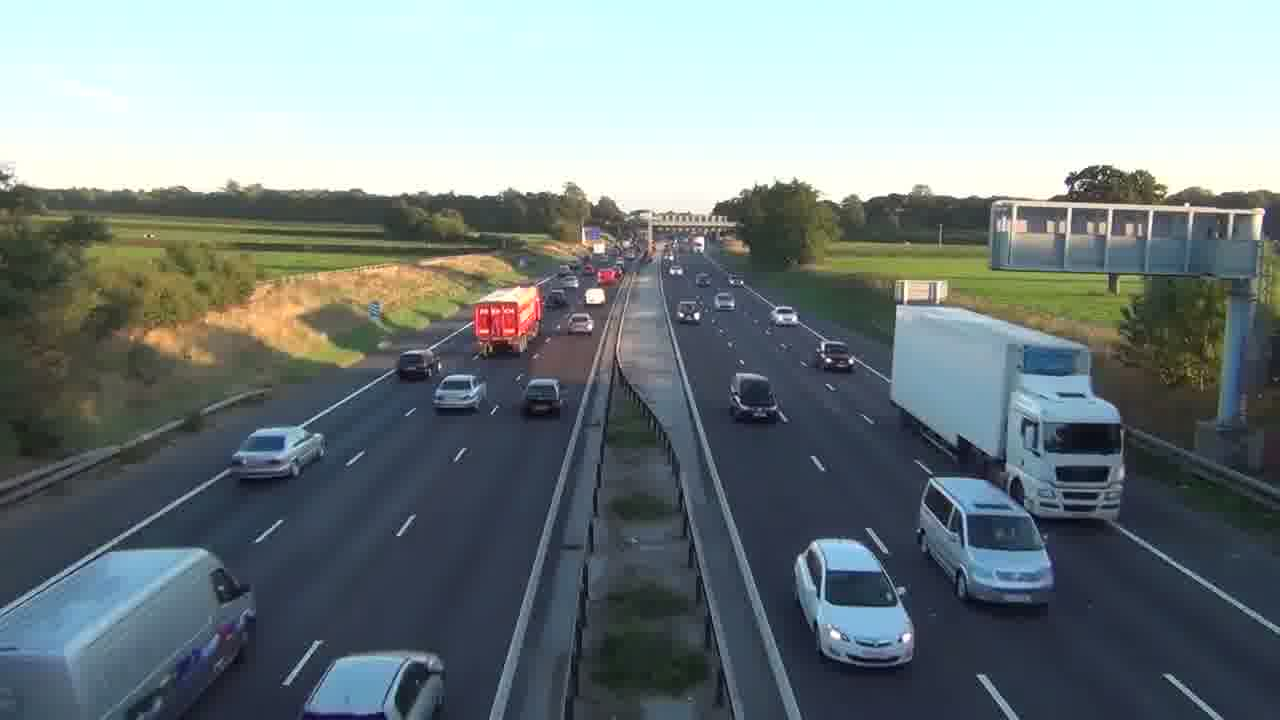bus: (472, 285, 545, 354)
car: (915, 474, 1057, 608), (792, 534, 916, 669), (300, 650, 447, 719), (230, 425, 326, 482), (432, 372, 485, 413), (522, 377, 562, 417), (397, 349, 440, 381), (817, 340, 855, 373), (566, 312, 594, 335)
truck: (889, 303, 1127, 520), (0, 544, 257, 717)
